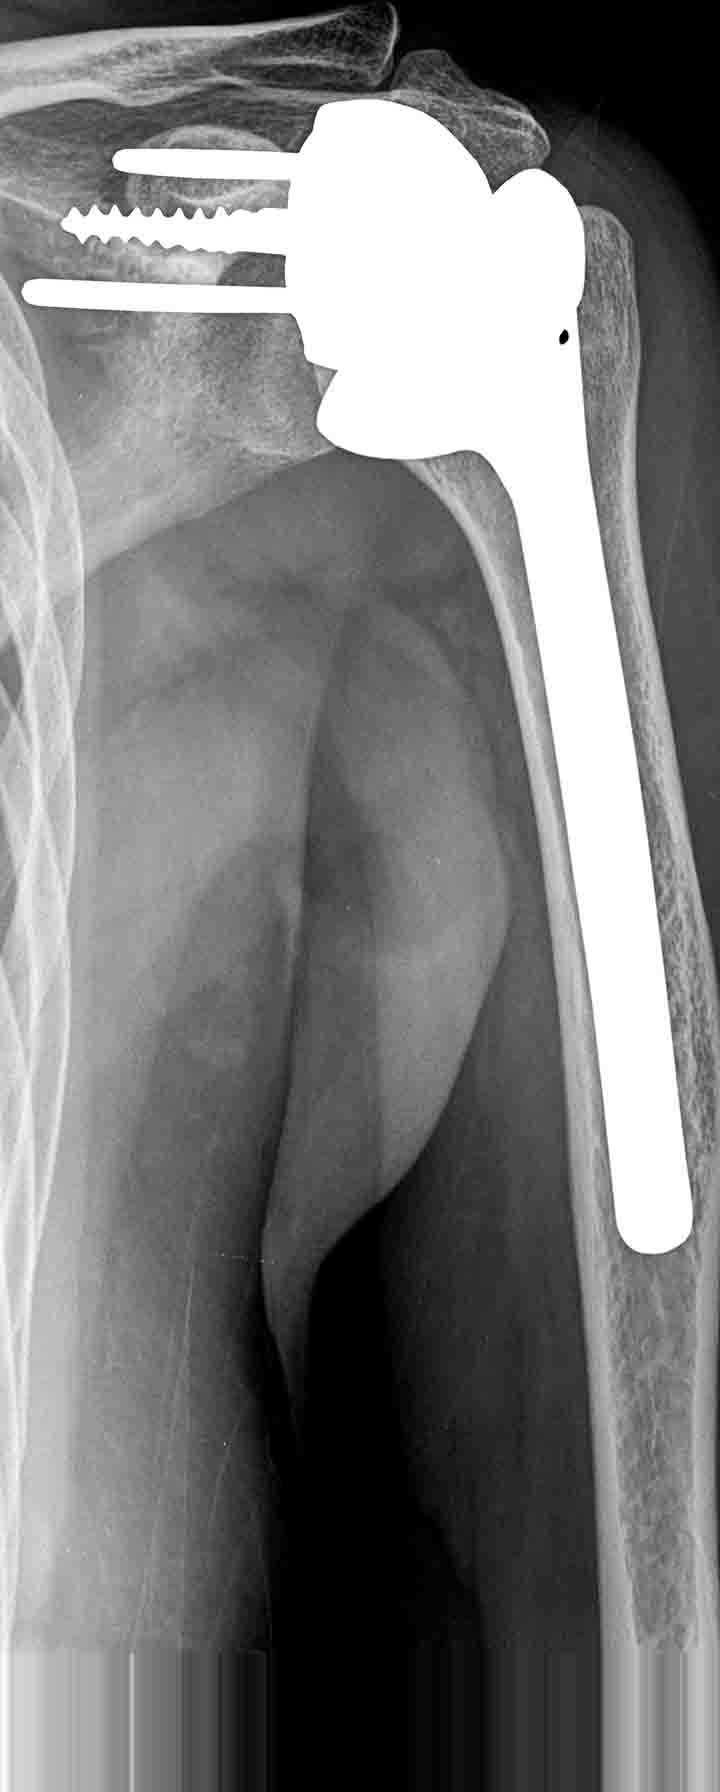Shoulder-Reverse-DJO: (9, 72, 707, 1255)
